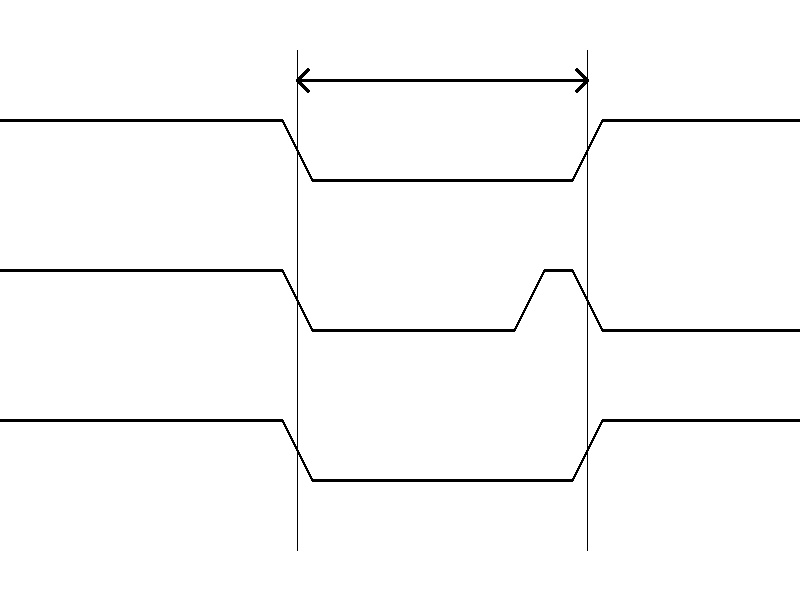double_arrow: (297, 65, 587, 95)
